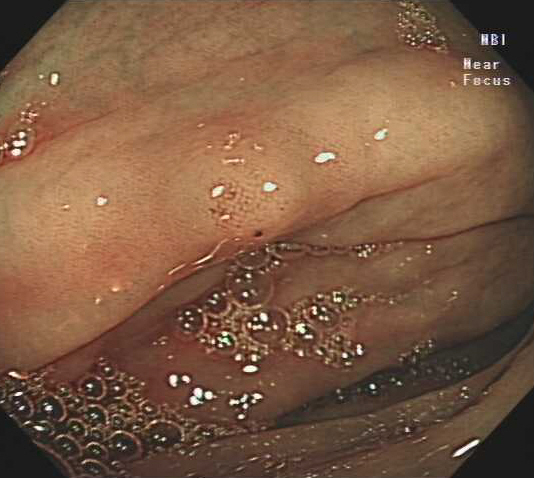others: (158, 146, 316, 248)
